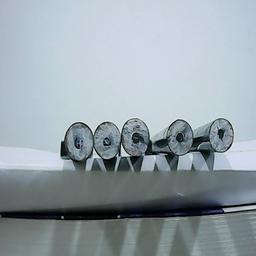pen: (63, 121, 94, 161), (121, 117, 150, 157), (93, 120, 122, 159), (166, 117, 193, 156), (208, 116, 235, 154)
